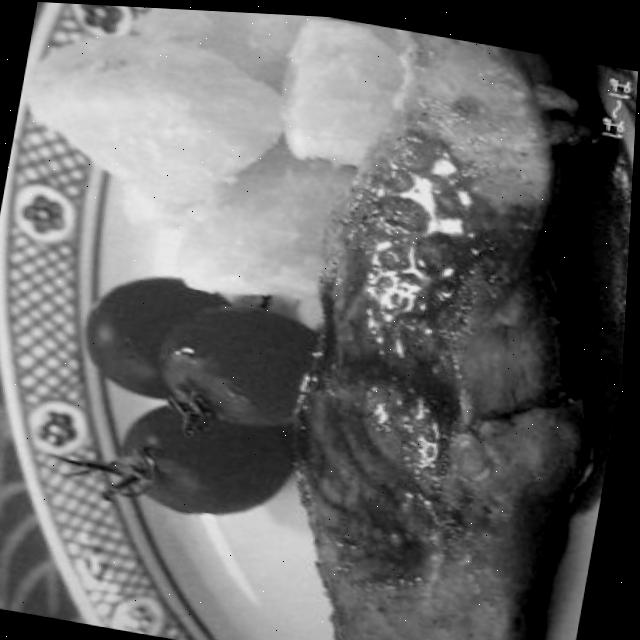熟制海鲜: (228, 10, 639, 640)
